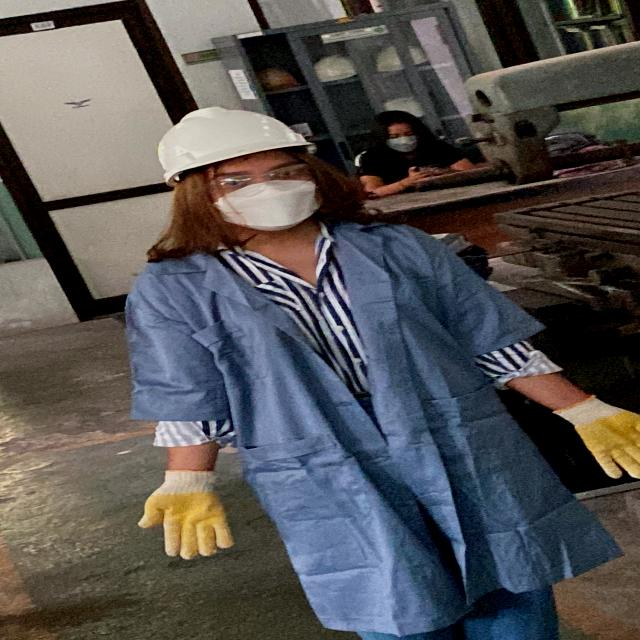face_mask: (199, 162, 323, 234), (384, 128, 422, 154)
glasses: (201, 162, 320, 192)
hand_glove: (130, 466, 238, 559), (557, 393, 640, 481)
head_helmet: (153, 104, 314, 183)
head_nohelmet: (369, 109, 424, 131)
person: (130, 93, 636, 640)
